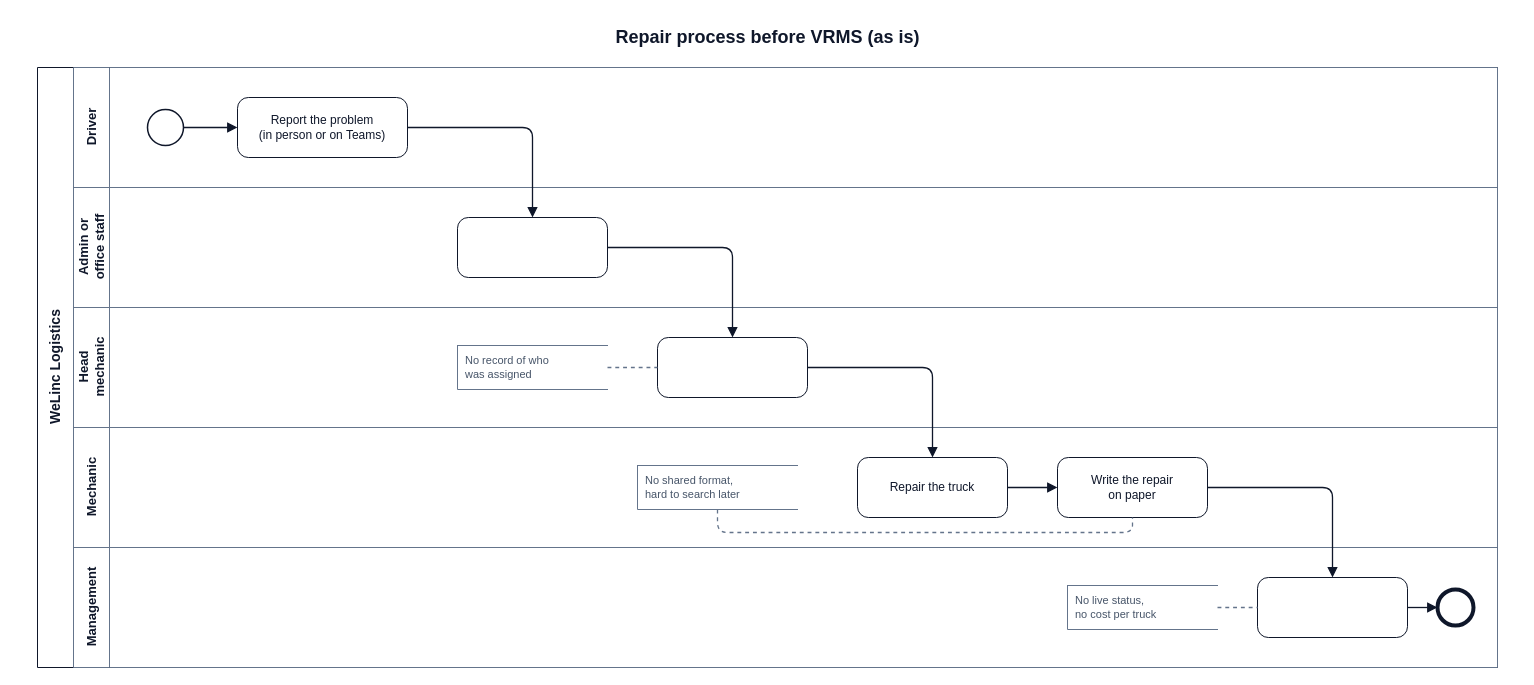
Some shapes in this 1534 by 685 pixel diagram are drawn without their labels. The centre of each missing label's shape, as x and y in pixels:
"Assign a mechanic verbally" goes at [732,367].
"Check the status on site" goes at [1332,607].
"Pass it to the head mechanic" goes at [532,247].
"Repaired" goes at [1455,607].
"Truck problem noticed" goes at [165,127].
